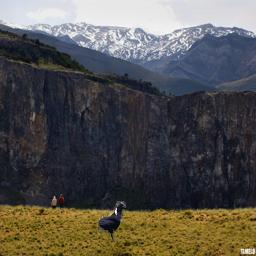Crow: (98, 201, 126, 241)
